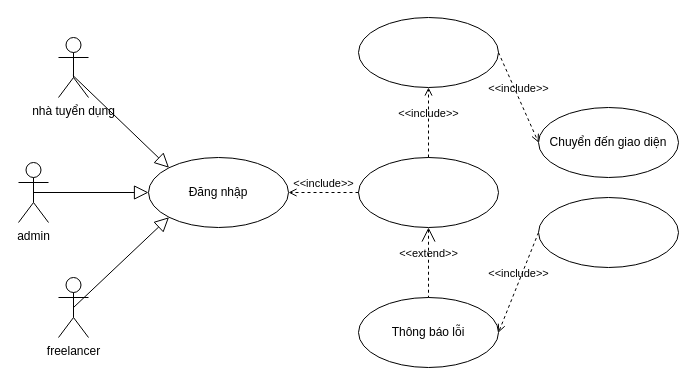
This 696x385 diagram has some shape labels left out. The centre of each missing label's shape, as x and y in pixels:
"Nhập thông tin đăng nhập" goes at point (428, 192).
"Phân quyền" goes at point (428, 52).
"Đăng ký" goes at point (608, 232).
